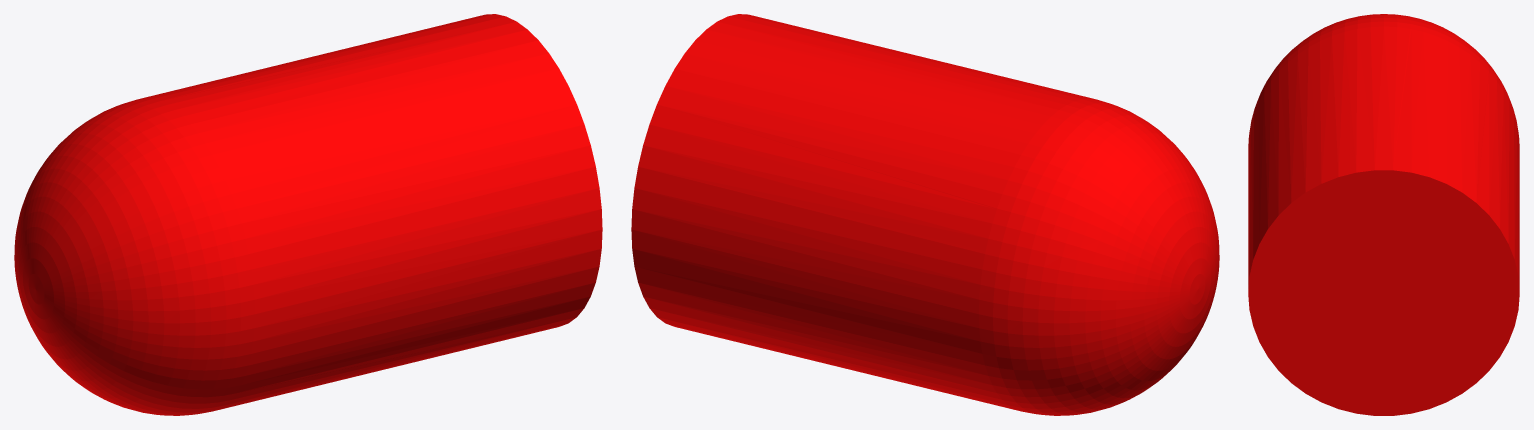
File: zatana_terra_base_vis_88.dae
3 renders of one model, left to right at view 1: azimuth 30°, elevation 25°; view 2: azimuth 150°, elevation 25°; view 3: azimuth 270°, elevation 25°, orthographic. The views are drawn at different scales.
Parts seen in each view (by area): view 1: Node_000002318374BEC0; view 2: Node_000002318374BEC0; view 3: Node_000002318374BEC0.
Part boxes in pixels (x1,y1,x2,y2): Node_000002318374BEC0: (14, 14, 602, 415); Node_000002318374BEC0: (631, 14, 1219, 415); Node_000002318374BEC0: (1248, 14, 1519, 415).
Bounding box in the file's own units: 0.0035 × 0.002 × 0.002.
